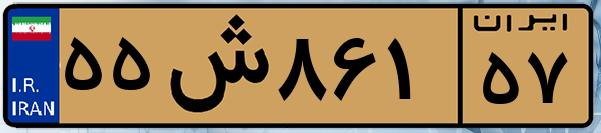1: (385, 28, 445, 110)
5: (57, 26, 110, 100), (475, 38, 525, 113), (110, 28, 158, 98)
6: (330, 28, 385, 110)
7: (525, 38, 570, 115)
8: (270, 28, 330, 110)
ش: (158, 12, 270, 120)
